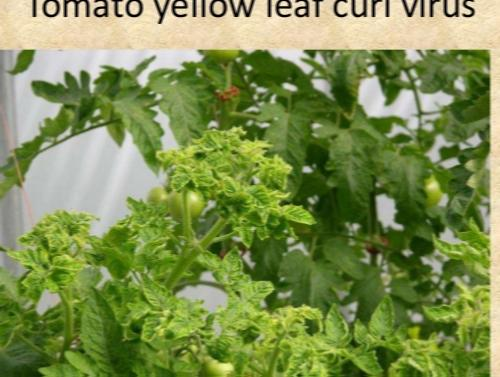Tomato leaf yellow virus: (369, 291, 405, 340), (134, 271, 175, 309), (428, 231, 475, 262), (322, 304, 351, 354), (166, 308, 205, 344), (5, 250, 53, 277), (282, 337, 314, 377), (276, 203, 322, 229), (418, 301, 460, 329), (55, 256, 87, 289), (221, 246, 243, 292), (243, 281, 280, 306), (233, 321, 268, 347), (192, 166, 216, 194), (170, 165, 187, 203), (249, 187, 276, 210), (267, 162, 289, 186), (223, 176, 245, 200), (210, 332, 227, 362)
